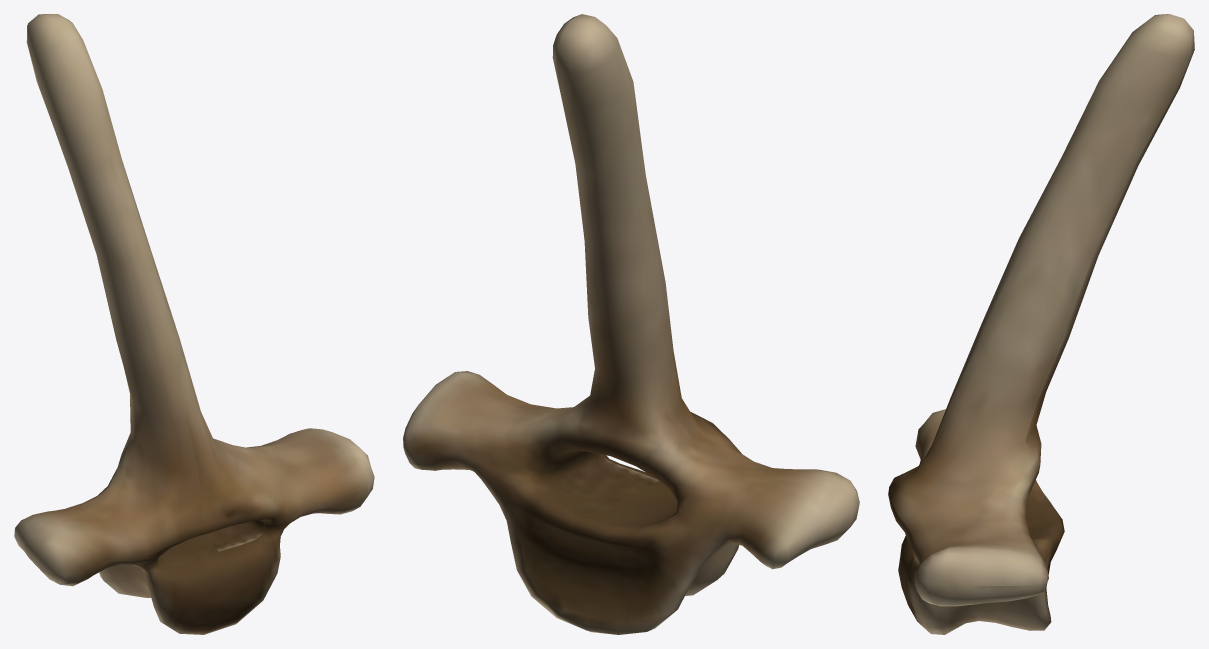
Rendered from Thoracic_Vertebrae4.glb.
3 renders of one model, left to right at view 1: azimuth 30°, elevation 25°; view 2: azimuth 150°, elevation 25°; view 3: azimuth 270°, elevation 25°, orthographic. The views are drawn at different scales.
Parts seen in each view (by area): view 1: Horse_low:SelSet_45Merged_L_Frt_Sesamoid_Bones_2; view 2: Horse_low:SelSet_45Merged_L_Frt_Sesamoid_Bones_2; view 3: Horse_low:SelSet_45Merged_L_Frt_Sesamoid_Bones_2.
Part boxes in pixels (left/top/right/bottom): Horse_low:SelSet_45Merged_L_Frt_Sesamoid_Bones_2: left=14, top=14, right=374, bottom=634; Horse_low:SelSet_45Merged_L_Frt_Sesamoid_Bones_2: left=403, top=14, right=859, bottom=634; Horse_low:SelSet_45Merged_L_Frt_Sesamoid_Bones_2: left=888, top=14, right=1194, bottom=634.
Bounding box in the file's own units: 0.1497 × 0.2368 × 0.1127.
Materials: 1 (1 with a texture image).
